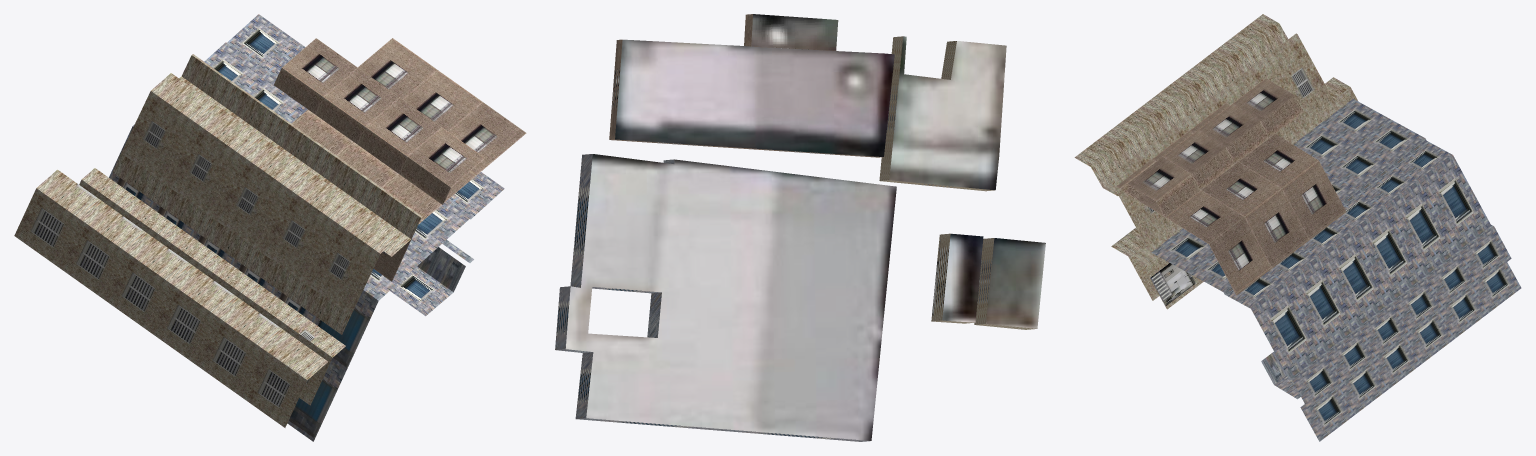
The picture shows the model from 3 angles, left to right: view 1: azimuth 30°, elevation 25°; view 2: azimuth 150°, elevation 25°; view 3: azimuth 270°, elevation 25°; orthographic projection. The views are drawn at different scales.
Size of the model in its own units: 29.91 by 25.09 by 31.85.
Materials: 18 (18 with a texture image).
